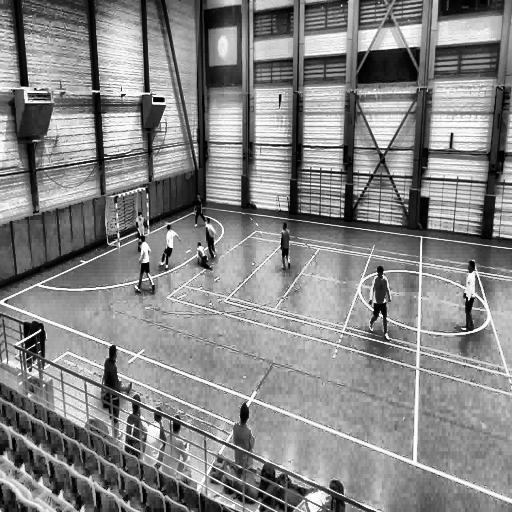player: (100, 346, 122, 438), (164, 412, 191, 484), (368, 264, 390, 339), (232, 401, 254, 474), (123, 392, 146, 454), (145, 403, 165, 466), (136, 232, 155, 294), (462, 260, 478, 332), (159, 222, 178, 272), (196, 241, 214, 276), (280, 221, 292, 271), (134, 210, 146, 250), (194, 194, 205, 226)
